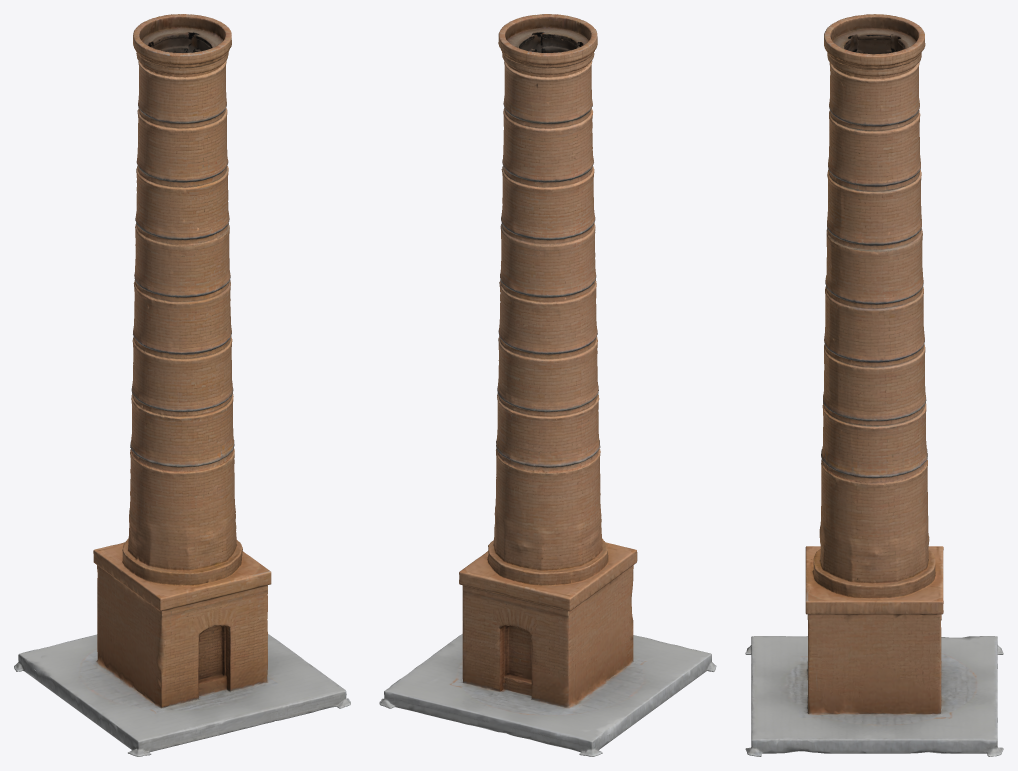
File: TorreMonica.glb
3 renders of one model, left to right at view 1: azimuth 30°, elevation 25°; view 2: azimuth 150°, elevation 25°; view 3: azimuth 270°, elevation 25°, orthographic. The views are drawn at different scales.
Size of the model in its own units: 0.6753 by 1.9 by 0.6688.
1 material, 1 textured.
